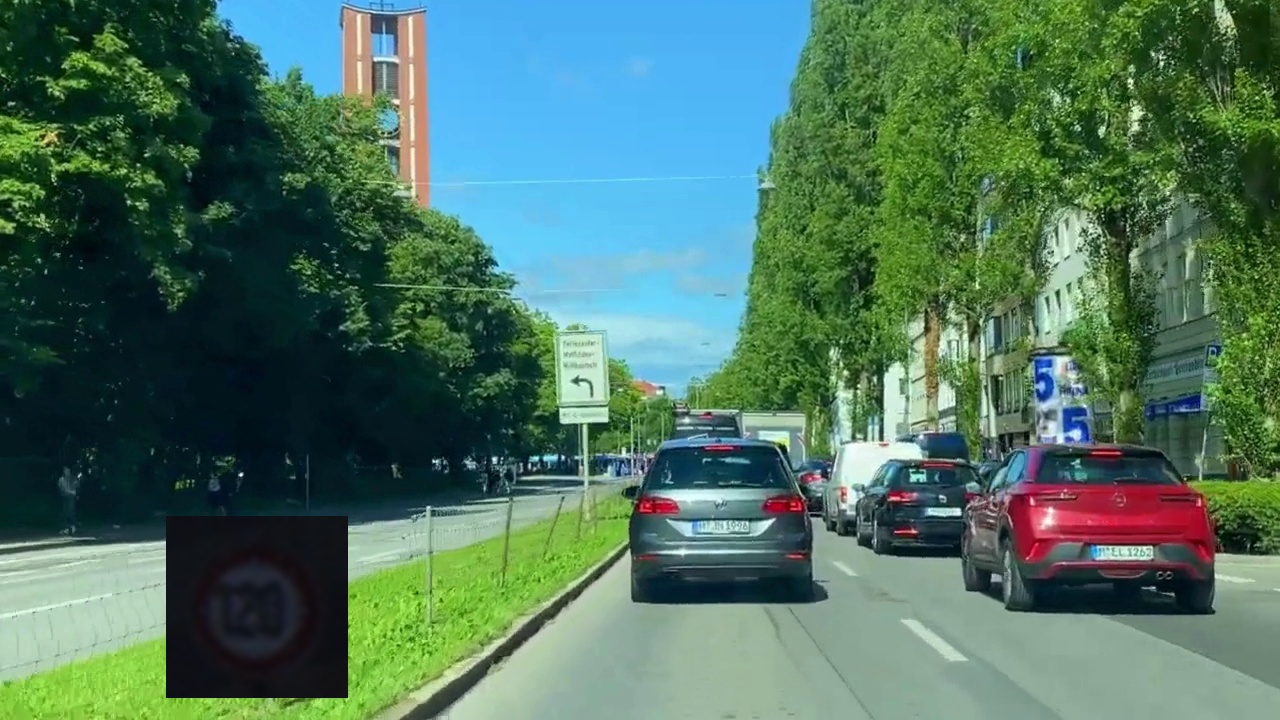Speed 120: (166, 516, 348, 698)
